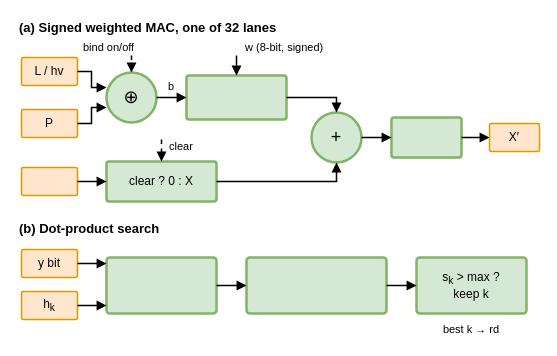
Image size: 557x356. Some labels were removed from this diagram. Here are the shapes that lost their labels. From the top down, the box of each, then its label:
(185, 74, 287, 120): b ? −w : +w
(390, 116, 462, 158): sat W
(20, 166, 78, 196): X / h k
(105, 256, 217, 314): y ? −h : +h × 32 lanes
(245, 256, 387, 314): Σ 32 lanes + running sum (2W)
